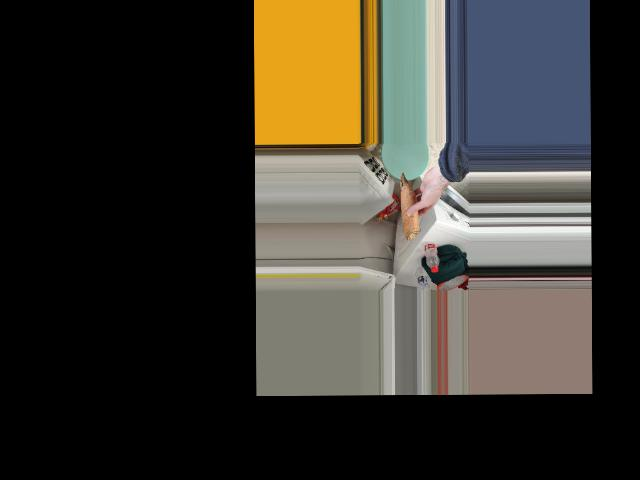sweet_potato: (394, 173, 420, 237)
